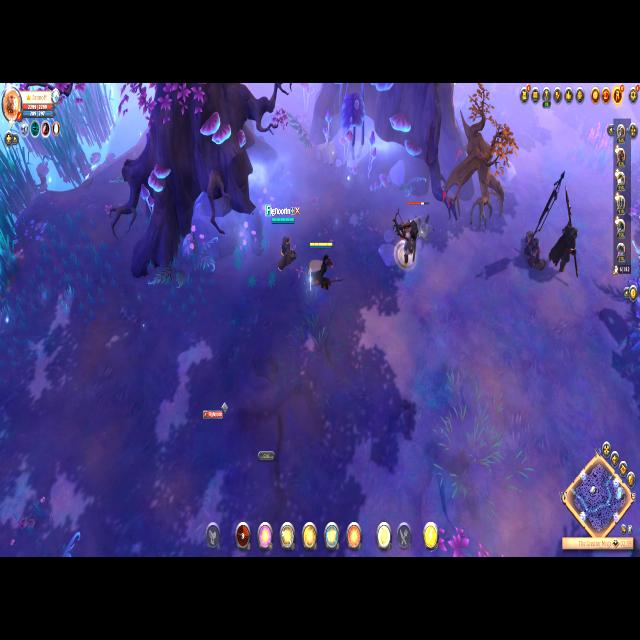ore: (548, 183, 588, 279), (392, 197, 431, 273)
red: (263, 200, 304, 279), (306, 234, 344, 300)
